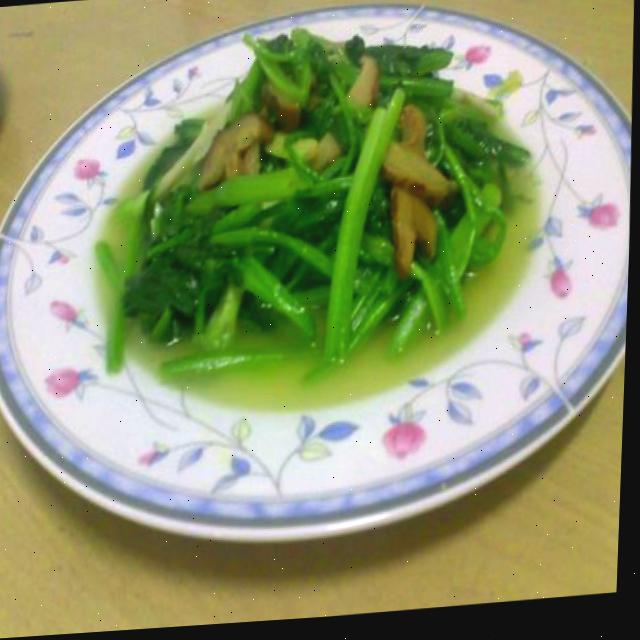蔬菜料理: (49, 0, 568, 475)
